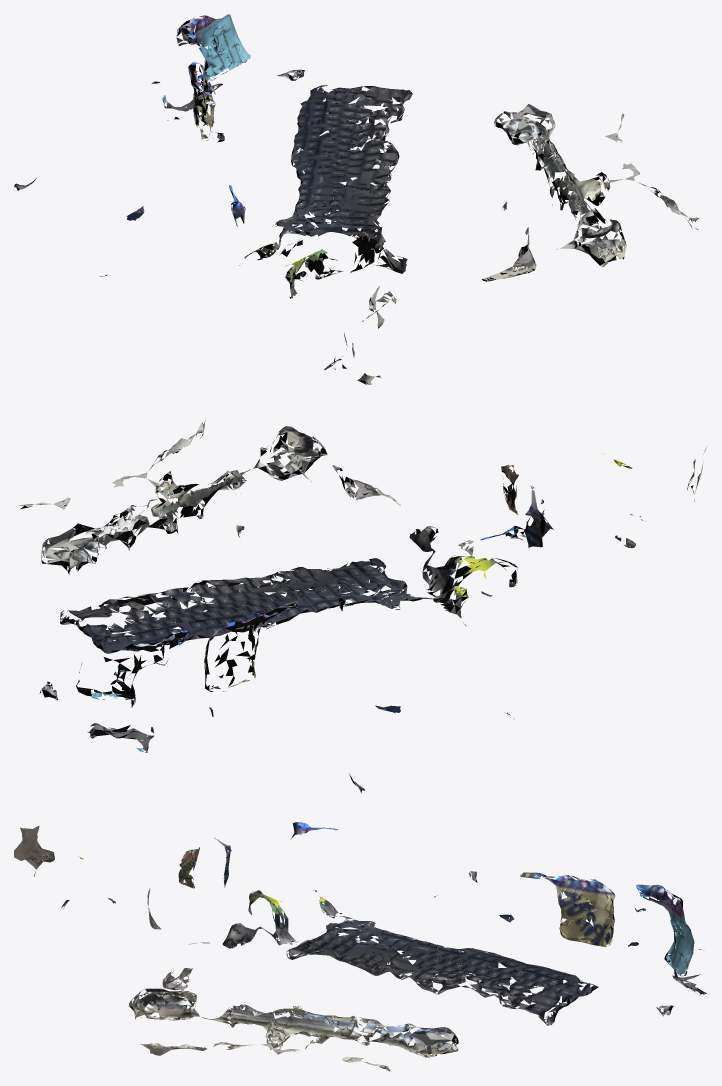
The picture shows the model from 3 angles, top to bottom: view 1: azimuth 30°, elevation 25°; view 2: azimuth 150°, elevation 25°; view 3: azimuth 270°, elevation 25°; orthographic projection. The views are drawn at different scales.
Visible parts, largest first — view 1: geometry_0; view 2: geometry_0; view 3: geometry_0.
Part boxes in pixels (left/top/right/bottom): geometry_0: left=14, top=14, right=698, bottom=384; geometry_0: left=18, top=418, right=706, bottom=792; geometry_0: left=14, top=822, right=706, bottom=1071.
Size of the model in its own units: 20.35 by 4.45 by 25.81.
Materials: 1 (1 with a texture image).
